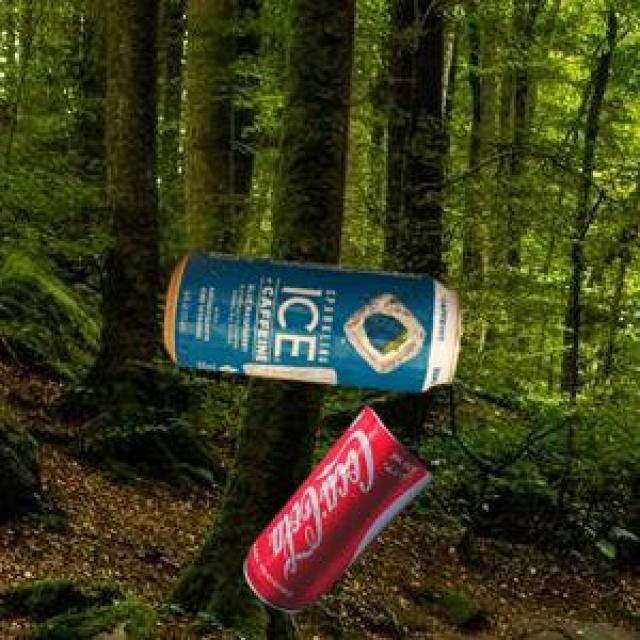logam: (161, 249, 458, 389), (242, 402, 430, 609)
